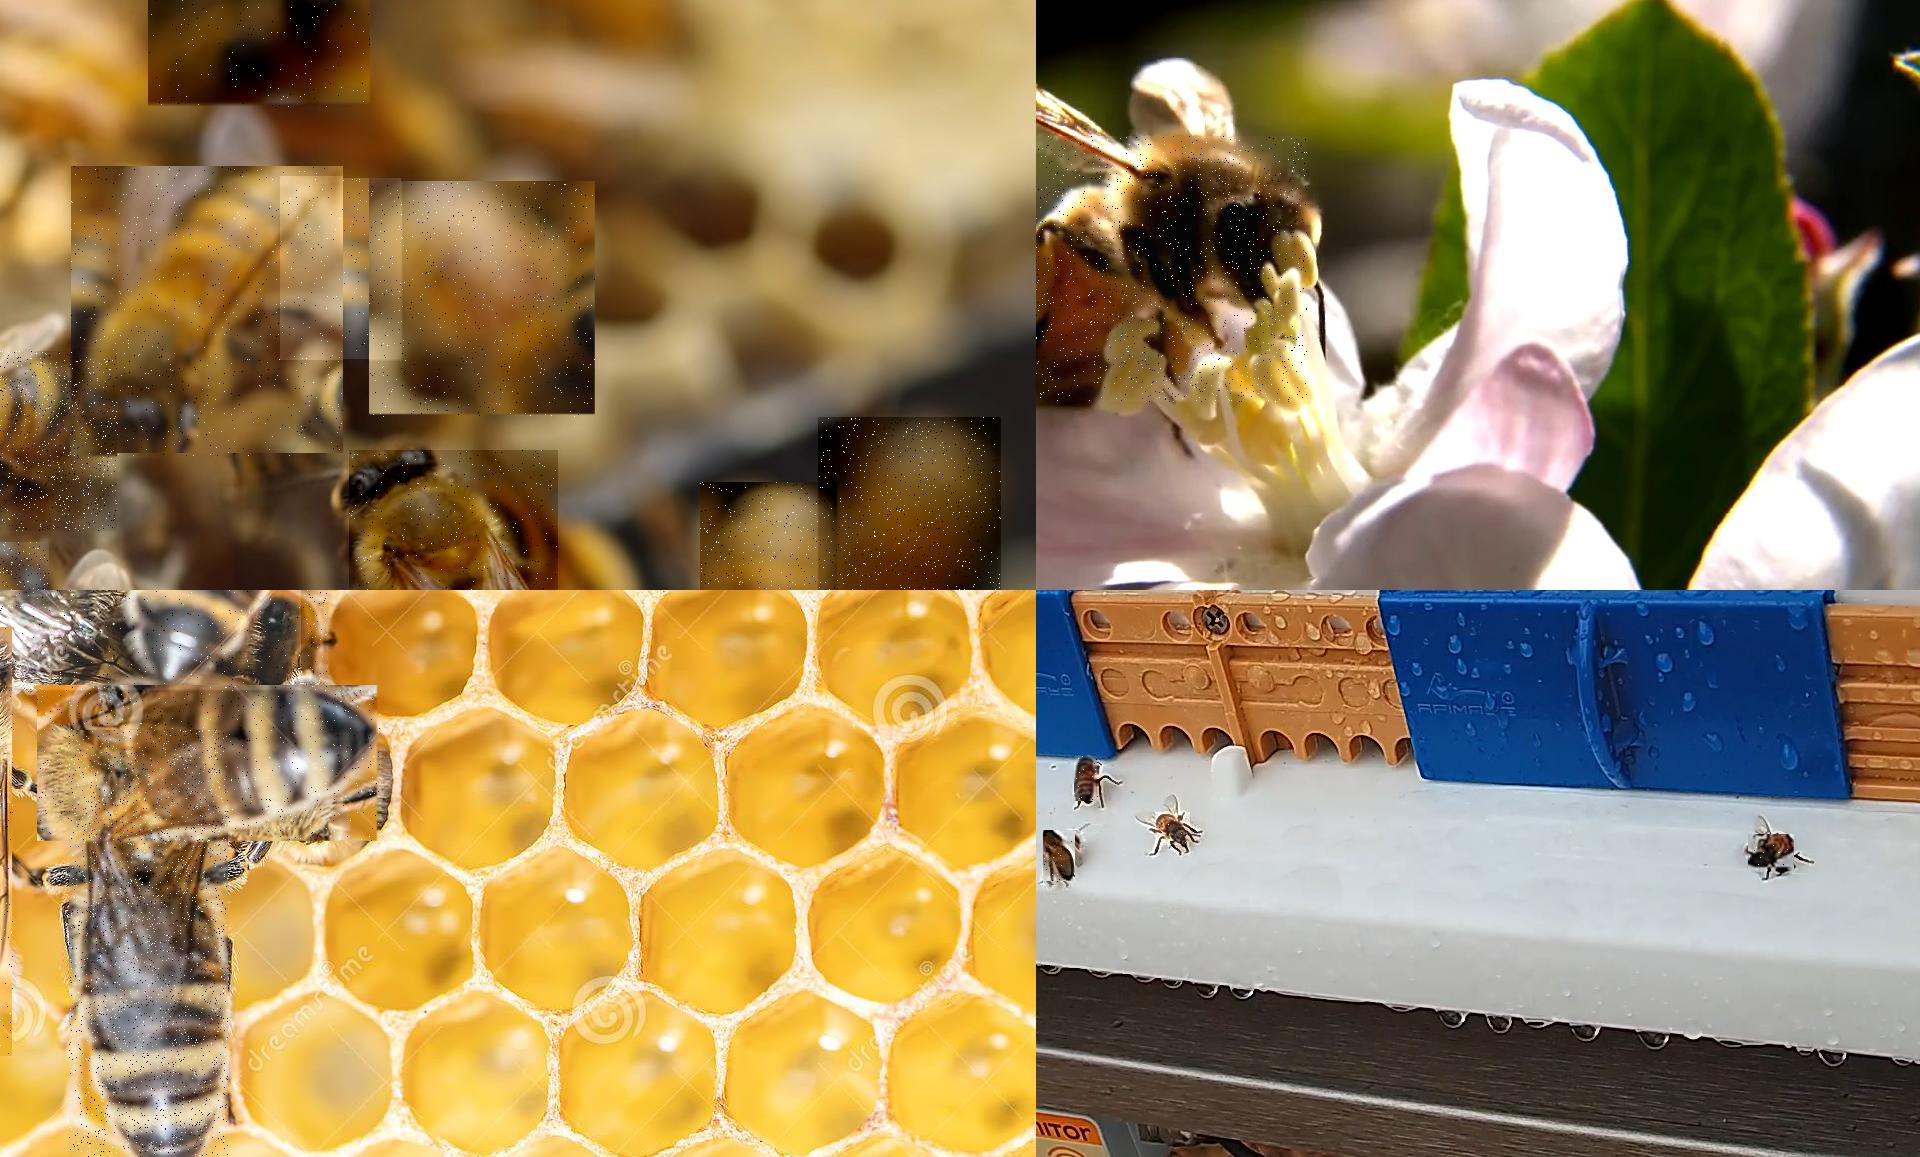bee: (71, 167, 344, 458), (69, 731, 230, 1156), (369, 182, 597, 419), (38, 685, 383, 842), (817, 417, 1003, 589), (0, 589, 304, 691), (348, 450, 560, 589), (148, 0, 372, 110), (280, 178, 402, 363), (0, 351, 119, 533), (136, 589, 329, 684), (699, 483, 839, 589), (1044, 831, 1081, 886), (1749, 835, 1795, 872), (1155, 812, 1192, 846), (1075, 755, 1100, 802)
pollenbee: (1035, 136, 1308, 404)
